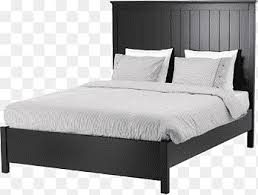bed-matress: (2, 76, 251, 145)
